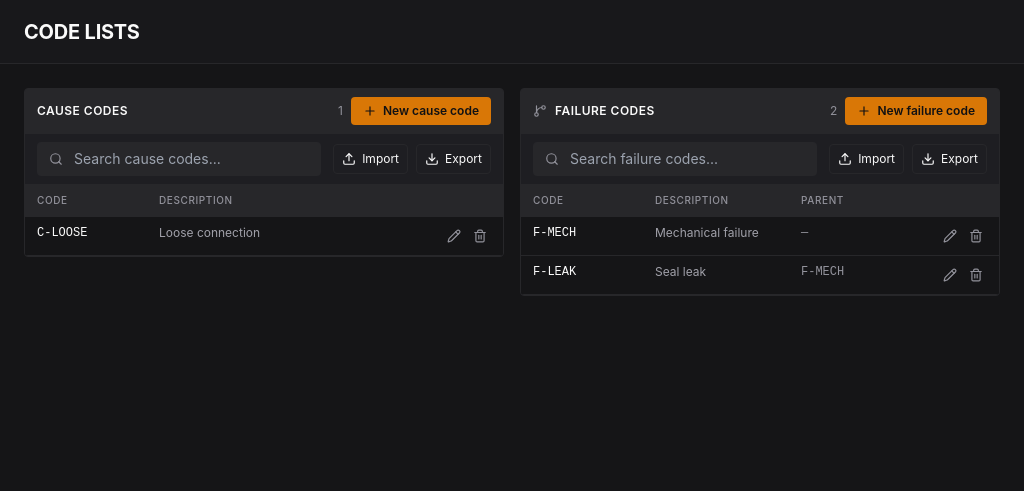
Test case: CodeListsPage cause/failure management (tracker v1.1-16) › edits a failure code, prefilling code, description and parent
Click the button named "edit failure code f-leak".
click(950, 275)  # box [939, 264, 961, 286]
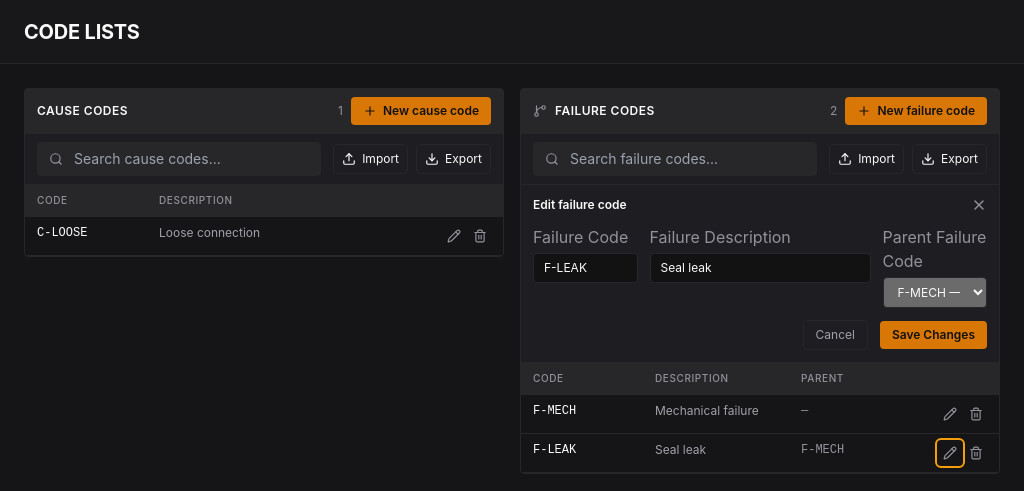
Now the field labelled "Failure Code" holds "F-LEAK", box [533, 253, 638, 283]
Now the field labelled "Failure Description" holds "Seal leak"
Now the dropdown labelled "Parent Failure Code" shows "F-MECH — Mechanical failure", box [882, 277, 987, 308]
Replace the text in the field labelled "Failure Description" with "Seal leak (major)" at (760, 268), box [650, 253, 870, 283]
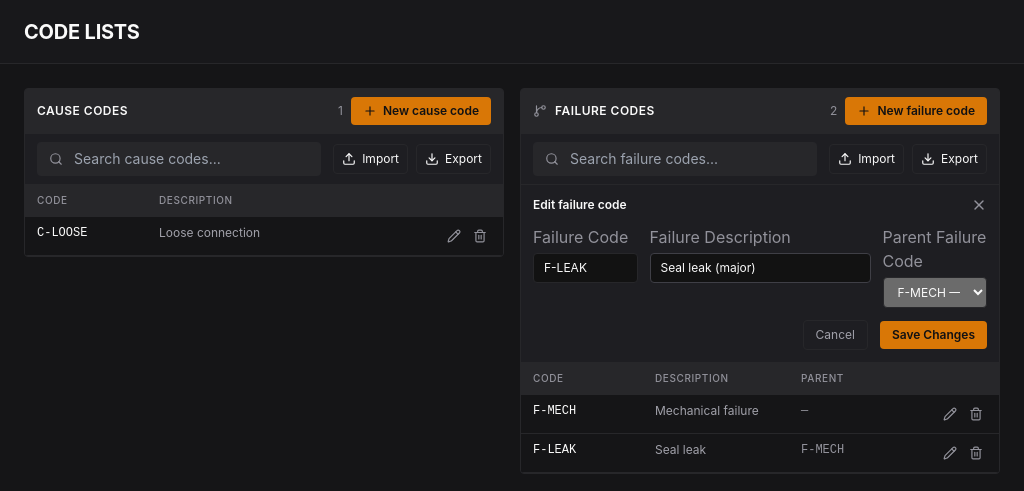
Click the button "Save Changes".
click(933, 335)  # box [880, 321, 987, 349]
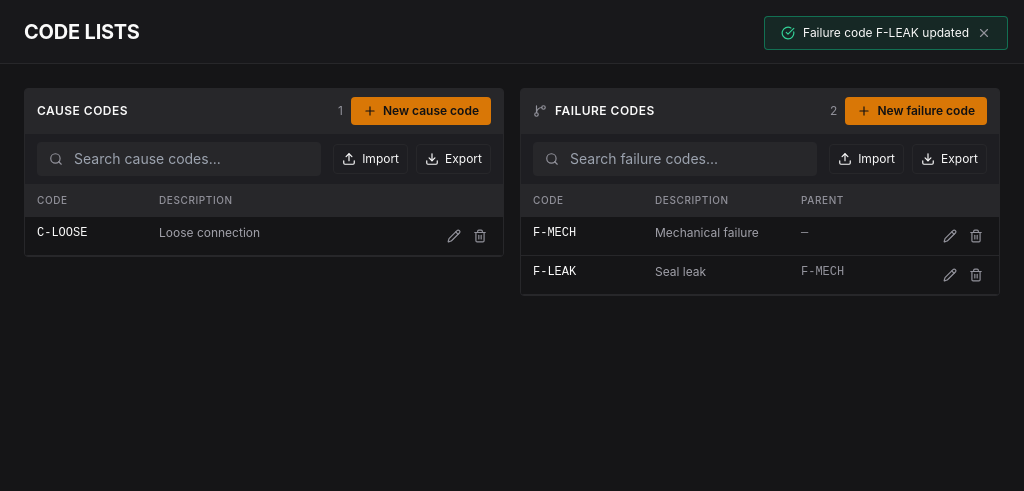
Now the text "Failure code F-LEAK updated" is shown, box [803, 25, 969, 41]
